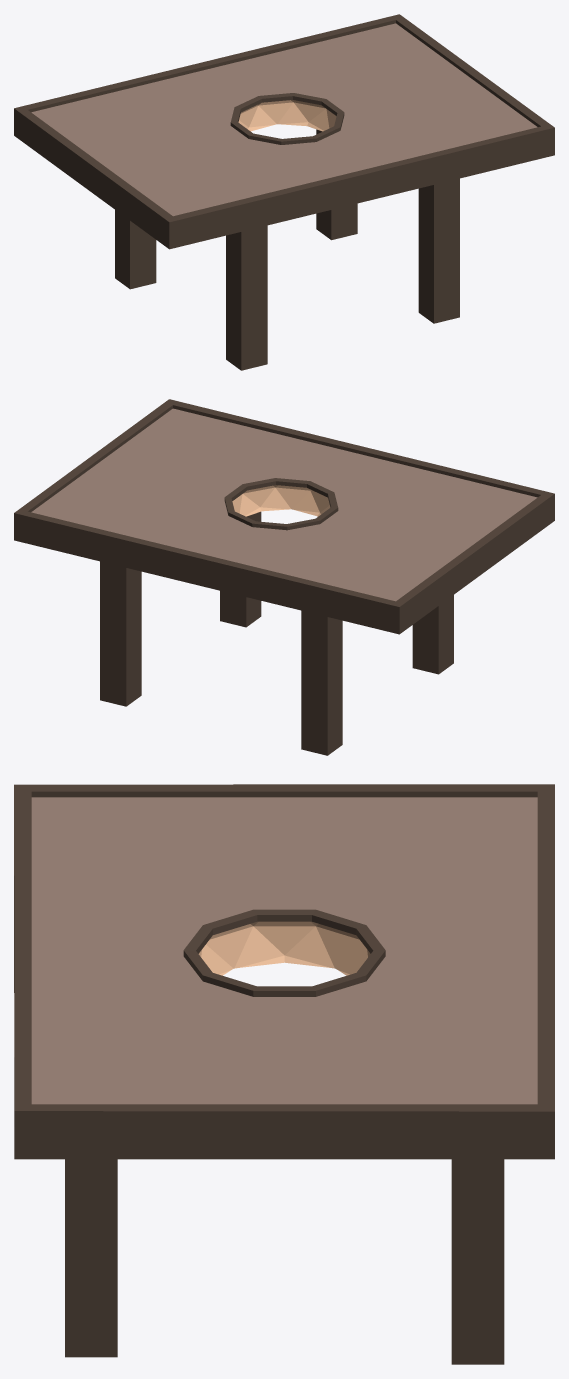
The model's file is Table.fbx.
3 renders of one model, top to bottom at view 1: azimuth 30°, elevation 25°; view 2: azimuth 150°, elevation 25°; view 3: azimuth 270°, elevation 25°, orthographic. The views are drawn at different scales.
Parts seen in each view (by area): view 1: Table Cutout Outside; view 2: Table Cutout Outside; view 3: Table Cutout Outside.
Boxes of the visible parts, x1,y1,x2,y2 form: Table Cutout Outside: (14,14,554,370); Table Cutout Outside: (14,399,554,755); Table Cutout Outside: (14,784,554,1364).
Size of the model in its own units: 4406 by 1974 by 3077.
